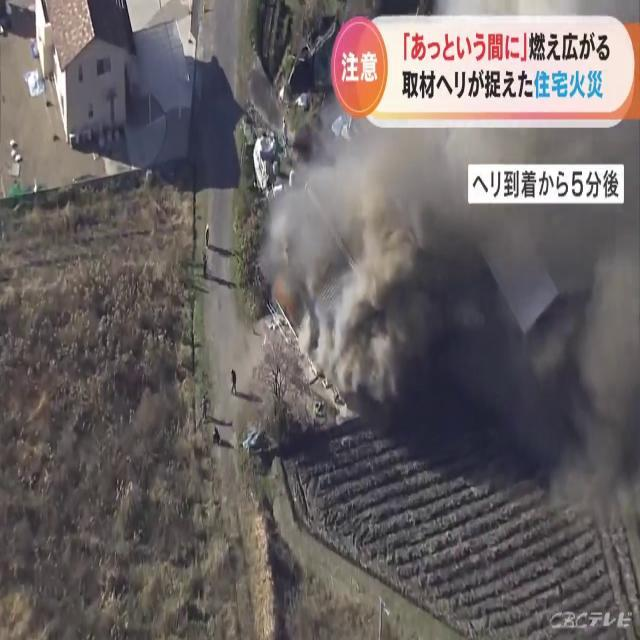Smoke: (255, 108, 640, 481)
